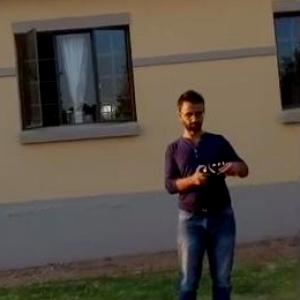follow: (156, 82, 258, 299)
